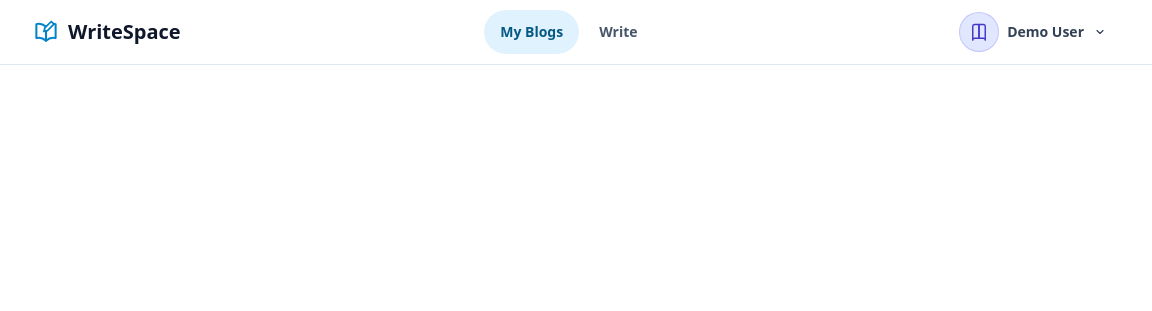
Test: Navbar › keeps the account menu open and displays an alert when logout fails
Click the button with aria-label "Demo User account menu" at (1039, 32), box [957,10,1120,54]
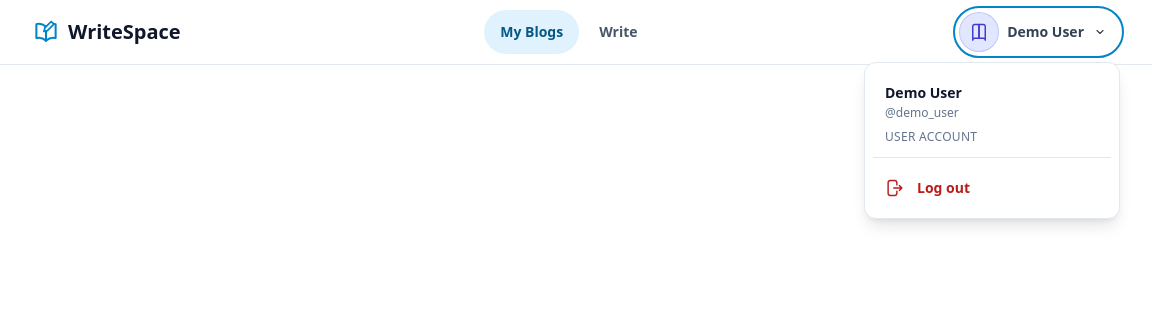
Click the menu item "Log out" at (992, 188), box [873,166,1111,210]
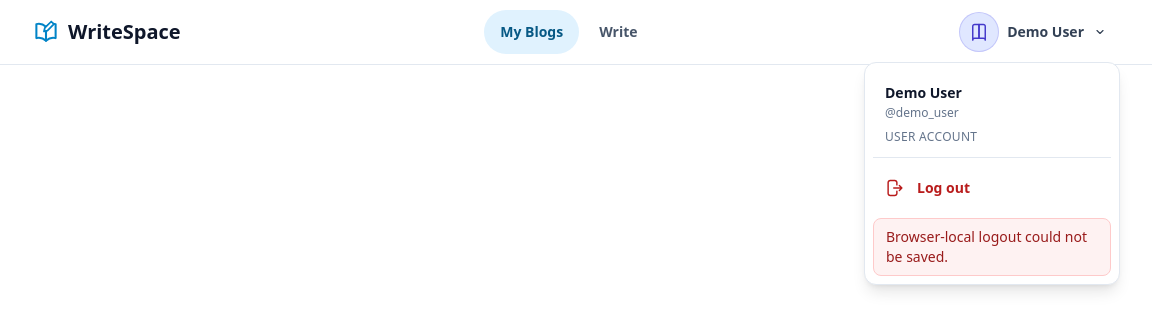
Check: the button with aria-label "Demo User account menu" is expanded, box [957,10,1120,54]
Check: the menu named "Account menu" is shown, box [864,62,1120,285]
Check: the message reads "Browser-local logout could not be saved.", box [886,227,1087,266]
